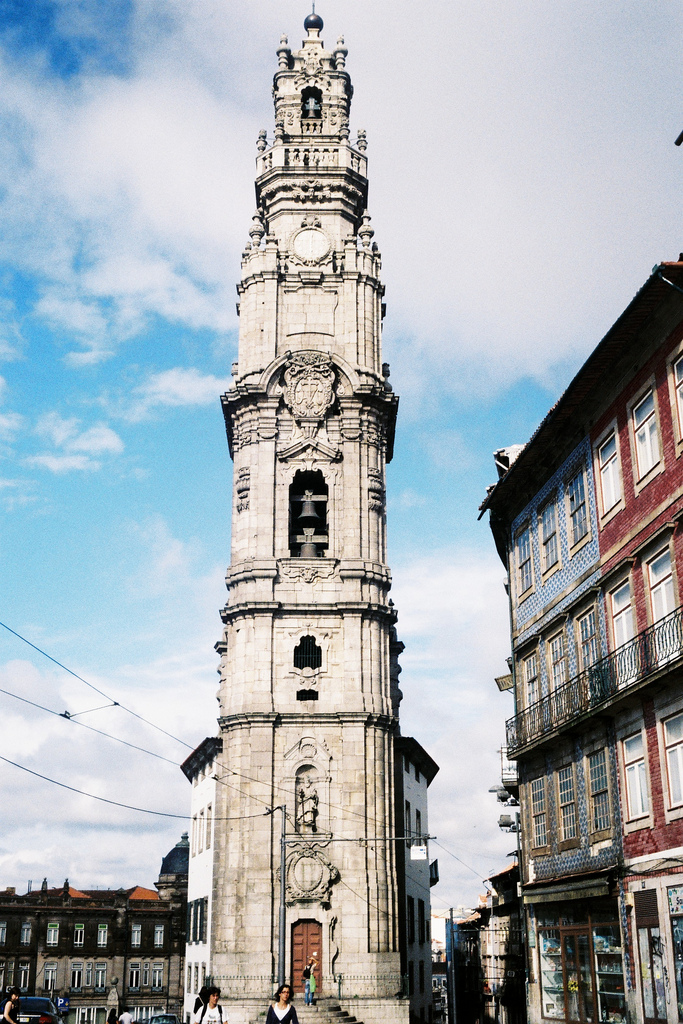clerigos: (202, 0, 408, 1004)
